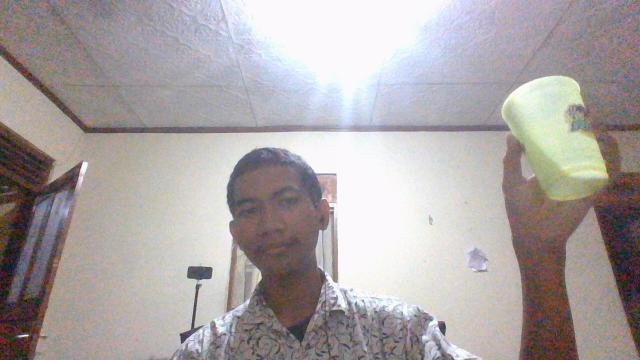botol-hijau: (500, 74, 610, 202)
